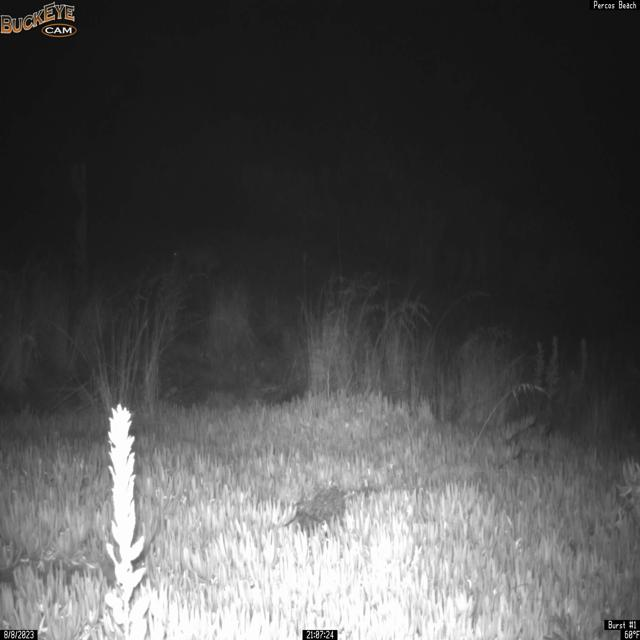coyote: (171, 240, 222, 280)
